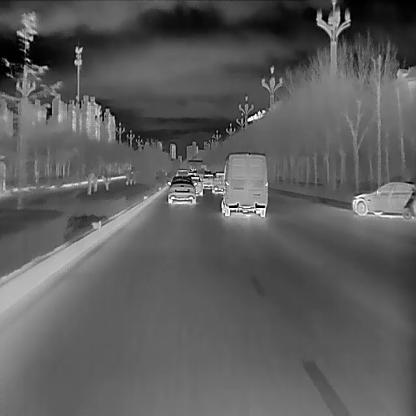car: (221, 153, 267, 216), (351, 182, 415, 219), (165, 176, 196, 204), (187, 174, 203, 197), (212, 170, 224, 192), (202, 172, 212, 190)
